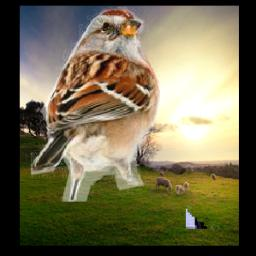Crow: (186, 120, 222, 230)
Sparrow: (32, 7, 161, 202)
